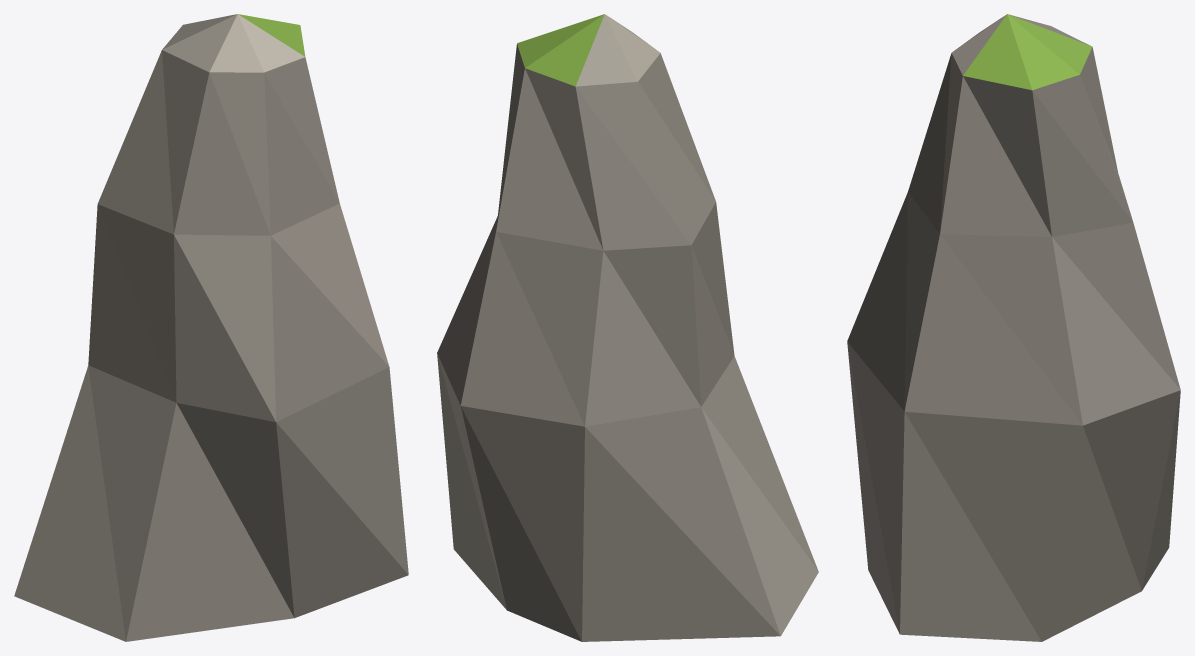
Rendered from Rock_Single.obj.
3 views of the same model, side by side, from view 1: azimuth 30°, elevation 25°; view 2: azimuth 150°, elevation 25°; view 3: azimuth 270°, elevation 25° (orthographic).
Parts seen in each view (by area): view 1: Rock_Single; view 2: Rock_Single; view 3: Rock_Single.
Part boxes in pixels (box(x1,y1,x2,y2)): Rock_Single: box(14, 14, 408, 641); Rock_Single: box(437, 14, 818, 641); Rock_Single: box(847, 14, 1180, 641).
Bounding box in the file's own units: 0.4452 × 0.7063 × 0.3801.
1 material, 1 textured.
